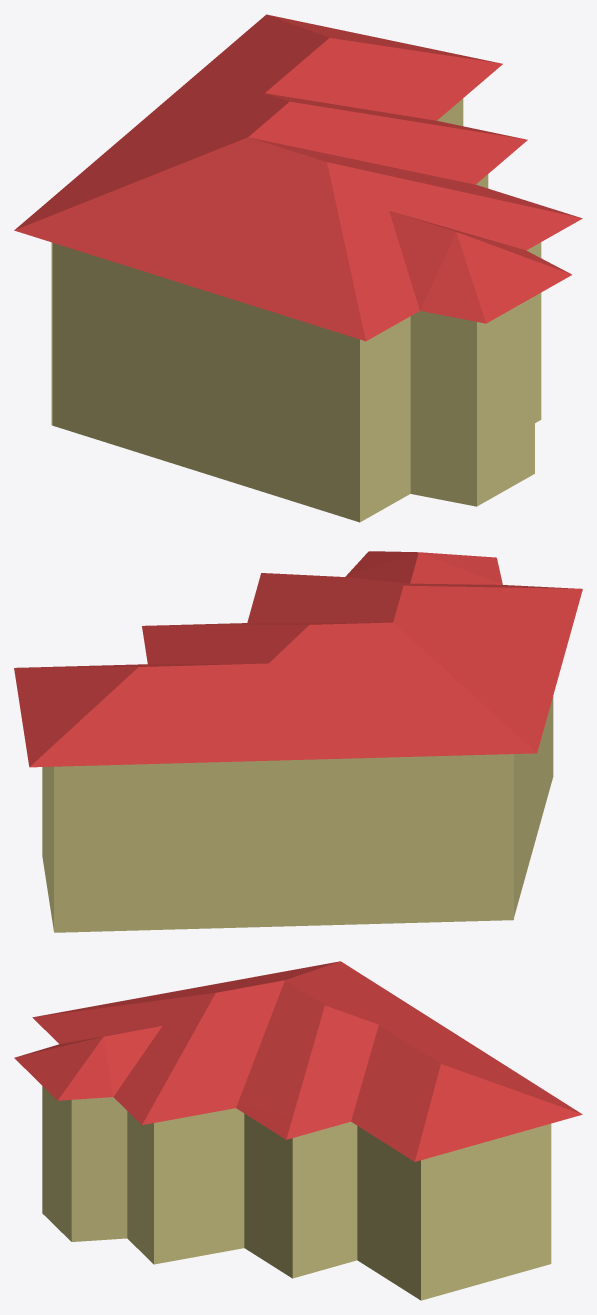
3 renders of one model, top to bottom at view 1: azimuth 30°, elevation 25°; view 2: azimuth 150°, elevation 25°; view 3: azimuth 270°, elevation 25°, orthographic. The views are drawn at different scales.
Size of the model in its own units: 20.84 by 24.96 by 10.01.
